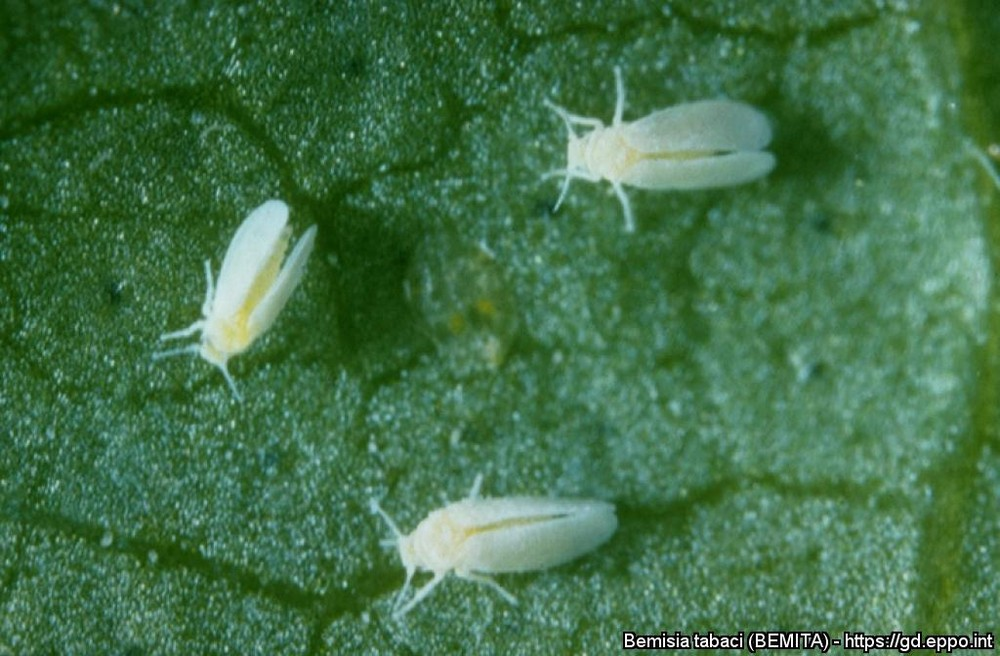Mosca Blanca: (524, 61, 808, 231), (361, 453, 639, 606), (149, 191, 326, 404)
